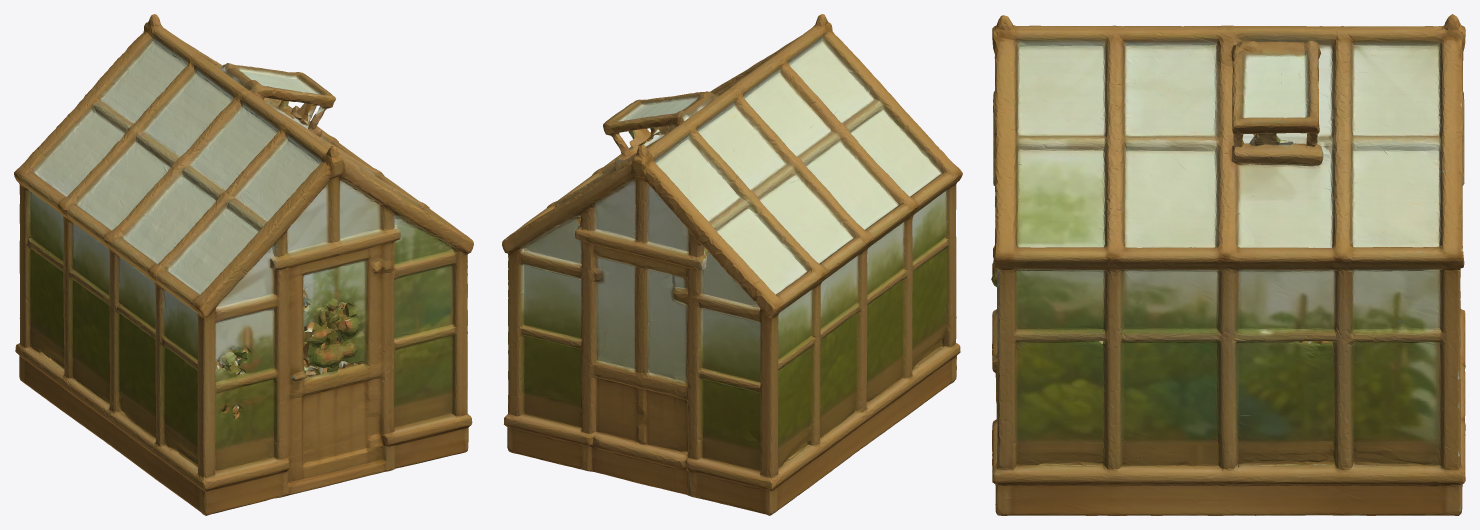
File: wc-greenhouse-paint.glb
The picture shows the model from 3 angles, left to right: view 1: azimuth 30°, elevation 25°; view 2: azimuth 150°, elevation 25°; view 3: azimuth 270°, elevation 25°; orthographic projection. The views are drawn at different scales.
Parts seen in each view (by area): view 1: geometry_0; view 2: geometry_0; view 3: geometry_0.
Boxes of the visible parts, x1=… form: geometry_0: x1=14, y1=14, x2=473, y2=515; geometry_0: x1=502, y1=14, x2=962, y2=515; geometry_0: x1=991, y1=14, x2=1465, y2=515.
Bounding box in the file's own units: 1.69 × 1.96 × 2.
1 material, 1 textured.
